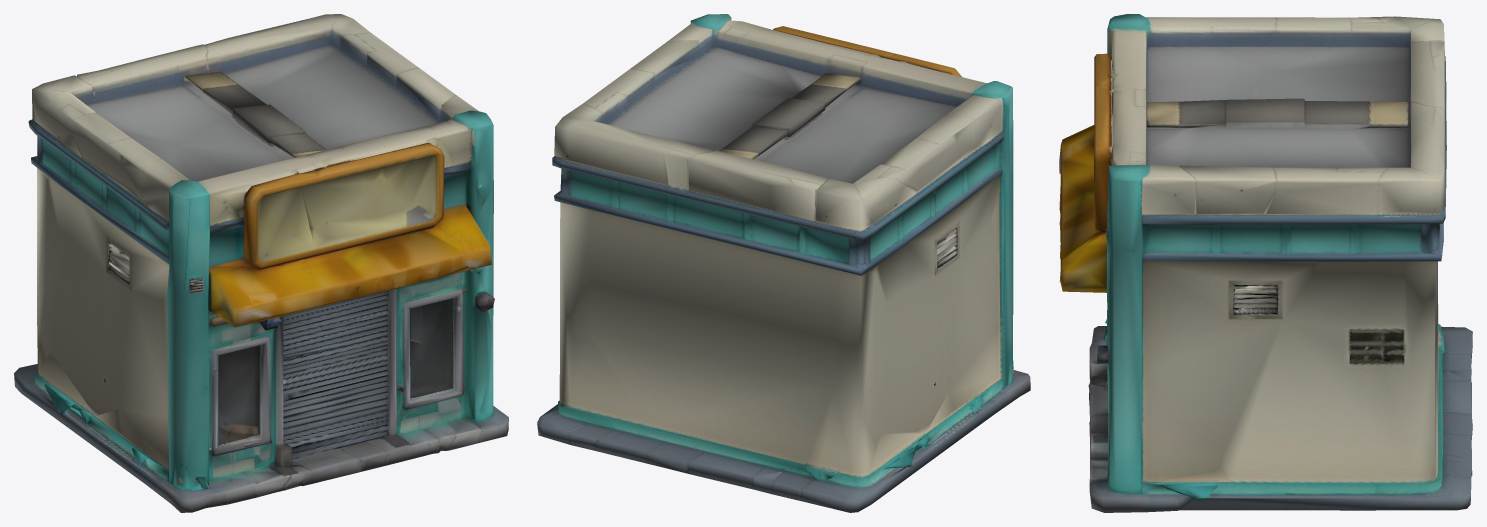
File: mall_shopfront_3000.glb
3 renders of one model, left to right at view 1: azimuth 30°, elevation 25°; view 2: azimuth 150°, elevation 25°; view 3: azimuth 270°, elevation 25°, orthographic. The views are drawn at different scales.
Parts seen in each view (by area): view 1: tripo_node_6ce5530e-6f5f-42fc-aaf2-6458767c5a01; view 2: tripo_node_6ce5530e-6f5f-42fc-aaf2-6458767c5a01; view 3: tripo_node_6ce5530e-6f5f-42fc-aaf2-6458767c5a01.
Boxes of the visible parts, box(x1,y1,x2,y2) form: tripo_node_6ce5530e-6f5f-42fc-aaf2-6458767c5a01: box(14, 14, 508, 512); tripo_node_6ce5530e-6f5f-42fc-aaf2-6458767c5a01: box(537, 14, 1030, 512); tripo_node_6ce5530e-6f5f-42fc-aaf2-6458767c5a01: box(1059, 14, 1472, 512).
Size of the model in its own units: 0.9739 by 0.8706 by 0.9802.
1 material, 1 textured.
